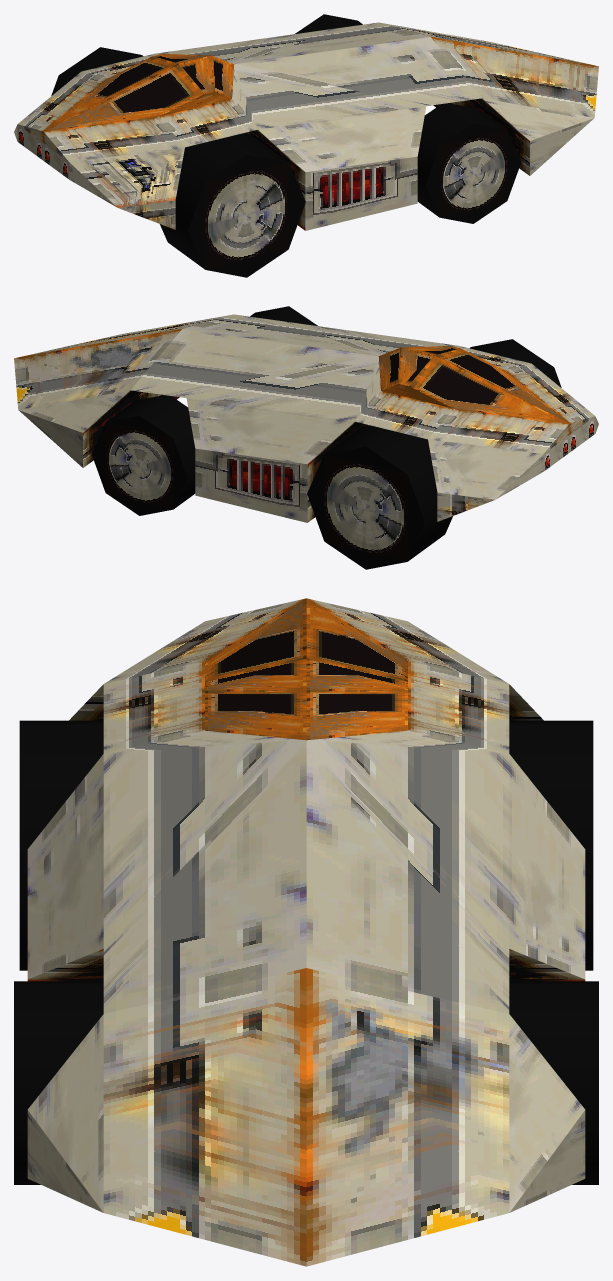
The model's file is Saber.glb.
The picture shows the model from 3 angles, top to bottom: view 1: azimuth 30°, elevation 25°; view 2: azimuth 150°, elevation 25°; view 3: azimuth 270°, elevation 25°; orthographic projection. The views are drawn at different scales.
Visible parts, largest first — view 1: ChassisSR0, WheelRR, WheelFR, WheelRL, WheelFL; view 2: ChassisSR0, WheelRL, WheelFL, WheelRR, WheelFR; view 3: ChassisSR0, WheelFR, WheelFL, WheelRL, WheelRR.
Boxes of the visible parts, box(x1,y1,x2,y2) form: ChassisSR0: box(14, 22, 598, 230); WheelRR: box(160, 133, 305, 277); WheelFR: box(417, 103, 521, 223); WheelRL: box(51, 47, 143, 95); WheelFL: box(294, 14, 362, 34); ChassisSR0: box(14, 314, 598, 522); WheelRL: box(307, 425, 452, 569); WheelFL: box(91, 395, 195, 515); WheelRR: box(469, 339, 561, 387); WheelFR: box(250, 306, 318, 326); ChassisSR0: box(27, 598, 585, 1266); WheelFR: box(14, 981, 103, 1184); WheelFL: box(509, 981, 598, 1184); WheelRL: box(509, 720, 593, 970); WheelRR: box(19, 720, 103, 970).
Size of the model in its own units: 8.22 by 2.26 by 3.83.
Materials: 4 (3 with a texture image).
